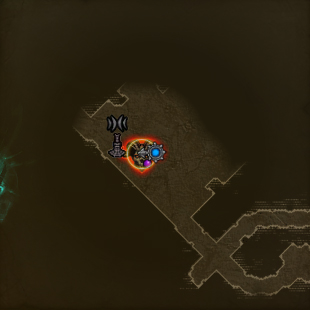Guardian: (122, 139, 167, 172)
